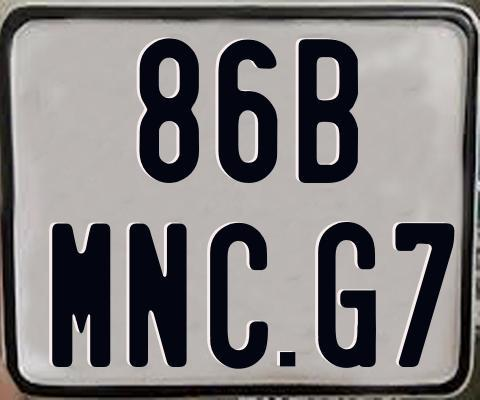6: (218, 36, 281, 185)
7: (392, 220, 457, 369)
8: (137, 37, 201, 186)
B: (296, 36, 355, 186)
C: (208, 220, 267, 372)
G: (315, 221, 379, 370)
M: (49, 222, 111, 372)
N: (128, 223, 187, 367)
